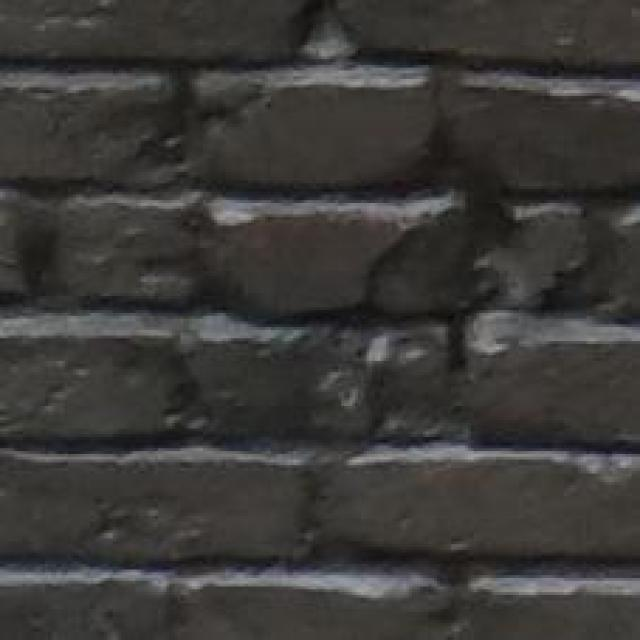Crack: (347, 89, 543, 416)
